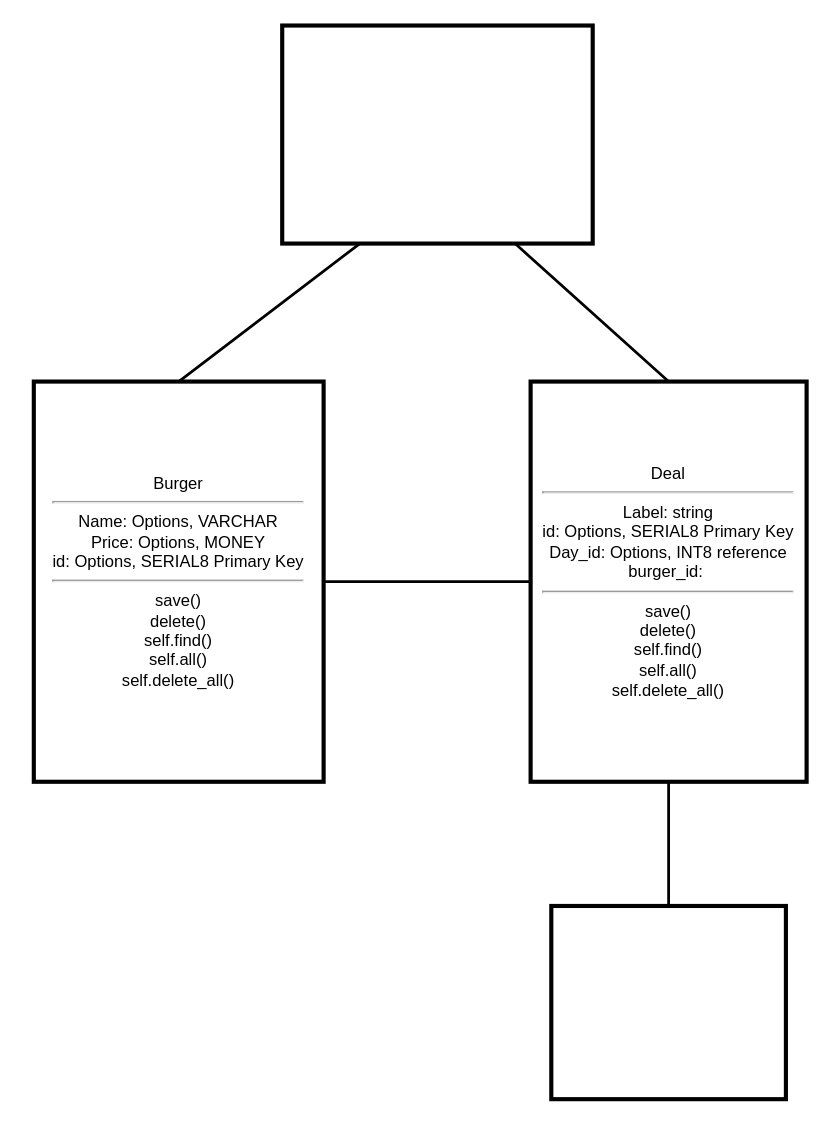
This 832x1125 diagram has some shape labels left out. Here are the shapes that lost their labels. From the top down, the box of each, then its label:
(279, 23, 594, 245): Eatery id: name: string burger_id: deal_id:
(549, 903, 787, 1101): Day id: Options, SERIAL8 Primary Key name:Options VARCHAR
